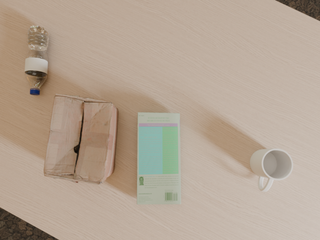book: (137, 113, 181, 204)
bottle: (25, 25, 49, 95)
box: (44, 94, 118, 185)
cup: (250, 149, 293, 192)
